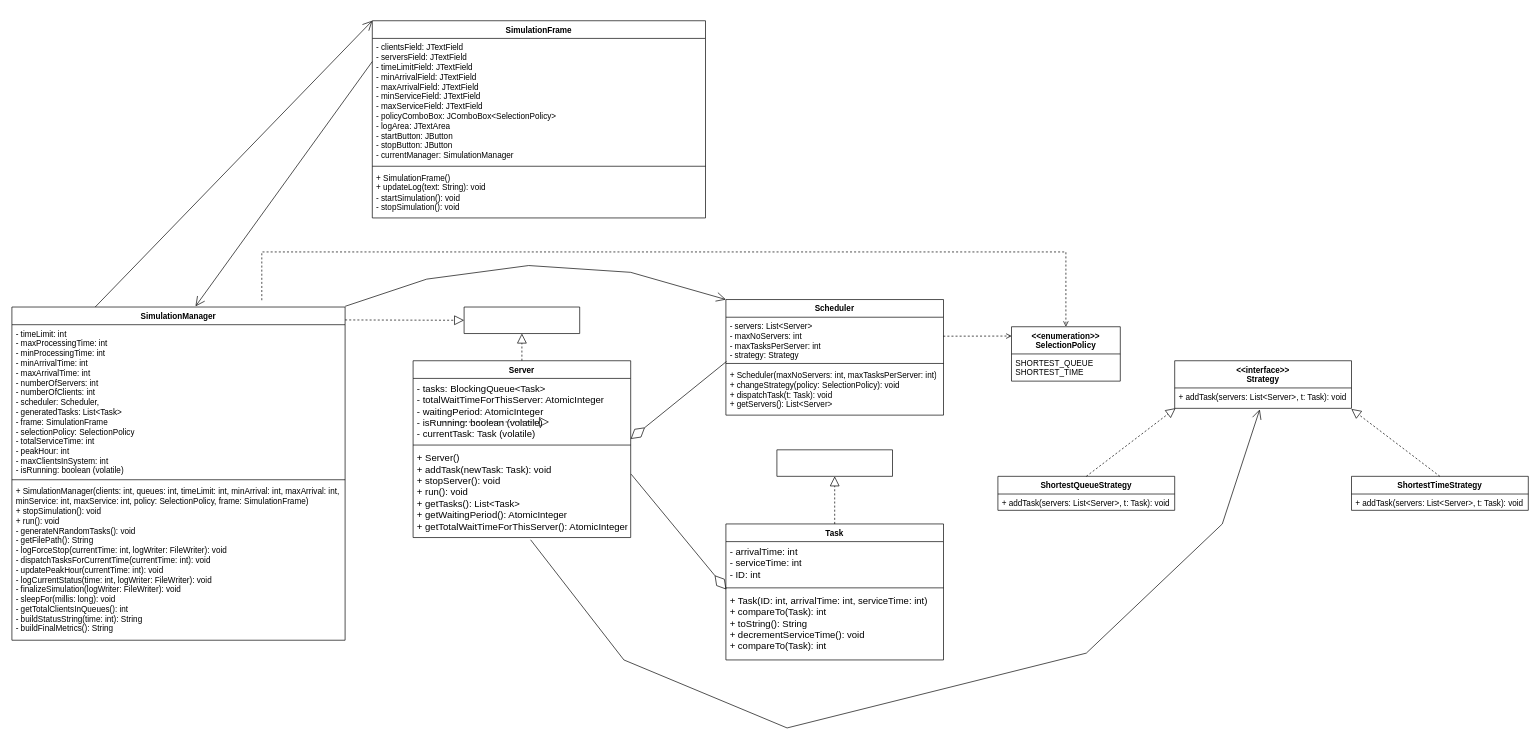
This 1540x749 diagram has some shape labels left out. Here are the shapes that lost their labels. From the top down, the centre of each, then its label:
At (x=521, y=320): "<<interface>> Runnable".
At (x=834, y=462): "<<interface>> Comparable".
